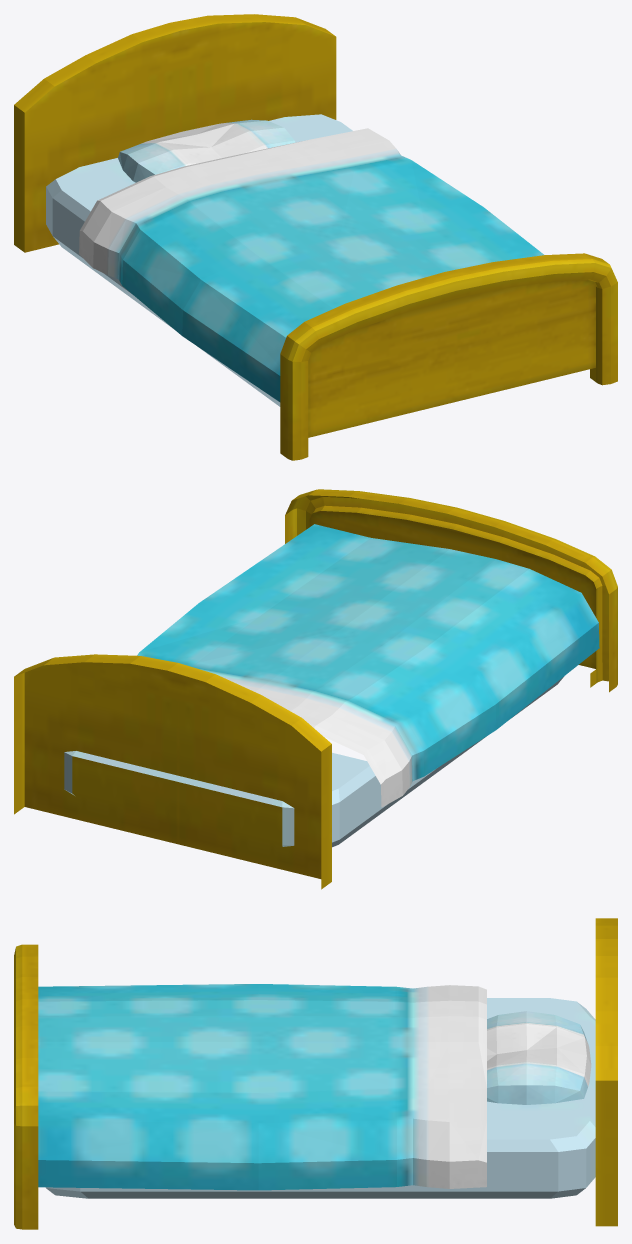
Rendered from cama.fbx.
3 renders of one model, top to bottom at view 1: azimuth 30°, elevation 25°; view 2: azimuth 150°, elevation 25°; view 3: azimuth 270°, elevation 25°, orthographic. The views are drawn at different scales.
Parts seen in each view (by area): view 1: polySurface67; view 2: polySurface67; view 3: polySurface67.
Boxes of the visible parts, x1,y1,x2,y2 form: polySurface67: (14, 14, 617, 460); polySurface67: (14, 489, 617, 889); polySurface67: (14, 918, 617, 1229).
Bounding box in the file's own units: 193 × 104 × 296.
